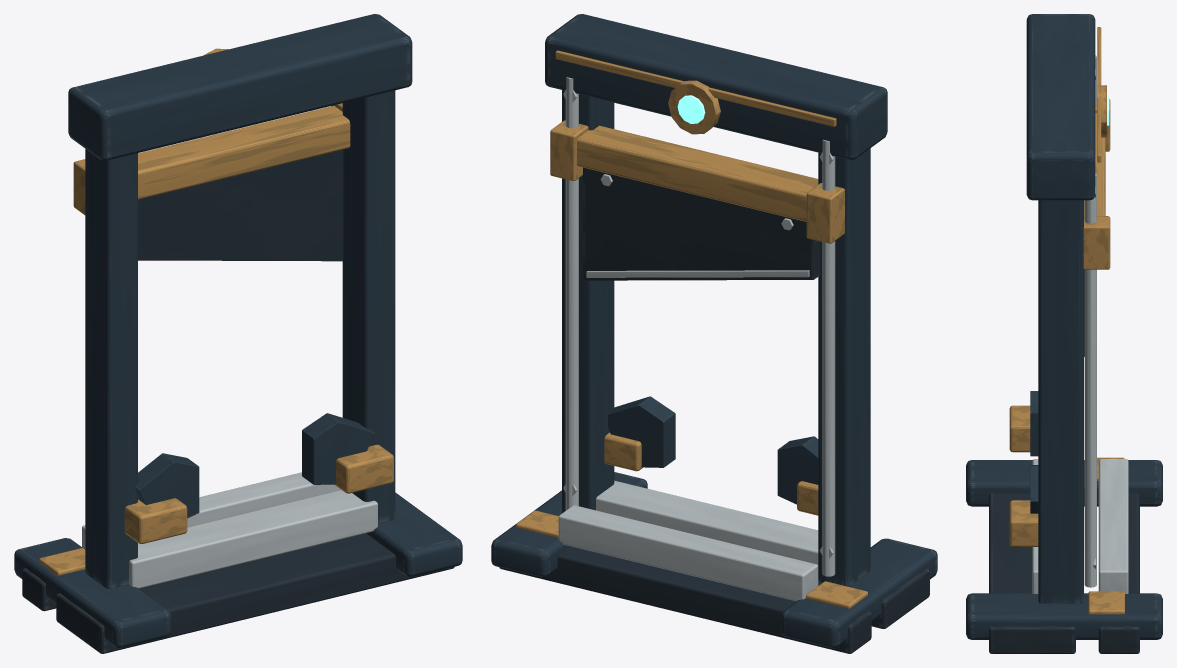
File: guillotine_lock.glb
The picture shows the model from 3 angles, left to right: view 1: azimuth 30°, elevation 25°; view 2: azimuth 150°, elevation 25°; view 3: azimuth 270°, elevation 25°; orthographic projection. The views are drawn at different scales.
Visible parts, largest first — view 1: v2_guillotine_lock__crown, v2_guillotine_lock__column_neg1, v2_guillotine_lock__column_1, v2_guillotine_lock__falling_blade, v2_guillotine_lock__ground_rear, v2_guillotine_lock__anvil_rear, v2_guillotine_lock__carriage, v2_guillotine_lock__foot_neg1, v2_guillotine_lock__foot_1, v2_guillotine_lock__anvil_front, v2_guillotine_lock__clamp_jaw_1, v2_guillotine_lock__clamp_jaw_neg1 (+5 smaller); view 2: v2_guillotine_lock__crown, v2_guillotine_lock__falling_blade, v2_guillotine_lock__column_neg1, v2_guillotine_lock__anvil_front, v2_guillotine_lock__carriage, v2_guillotine_lock__column_1, v2_guillotine_lock__ground_front, v2_guillotine_lock__anvil_rear, v2_guillotine_lock__foot_neg1, v2_guillotine_lock__guide_neg1, v2_guillotine_lock__guide_1, v2_guillotine_lock__foot_1 (+12 smaller); view 3: v2_guillotine_lock__column_1, v2_guillotine_lock__crown, v2_guillotine_lock__foot_1, v2_guillotine_lock__ground_rear, v2_guillotine_lock__guide_1, v2_guillotine_lock__anvil_front, v2_guillotine_lock__foot_neg1, v2_guillotine_lock__ground_front, v2_guillotine_lock__runner_1, v2_guillotine_lock__clamp_slide_1, v2_guillotine_lock__clamp_slide_neg1, v2_guillotine_lock__foot_trim_1 (+6 smaller).
Part boxes in pixels (x1,y1,x2,y2): v2_guillotine_lock__crown: (68,14,412,160); v2_guillotine_lock__column_neg1: (85,149,137,588); v2_guillotine_lock__column_1: (342,90,395,523); v2_guillotine_lock__falling_blade: (138,149,343,261); v2_guillotine_lock__ground_rear: (56,533,454,653); v2_guillotine_lock__anvil_rear: (129,490,377,588); v2_guillotine_lock__carriage: (138,106,350,199); v2_guillotine_lock__foot_neg1: (14,538,171,647); v2_guillotine_lock__foot_1: (366,492,462,576); v2_guillotine_lock__anvil_front: (82,472,340,549); v2_guillotine_lock__clamp_jaw_1: (302,413,374,484); v2_guillotine_lock__clamp_jaw_neg1: (134,453,199,518); v2_guillotine_lock__crown: (545,14,887,159); v2_guillotine_lock__falling_blade: (583,167,819,280); v2_guillotine_lock__column_neg1: (818,148,870,586); v2_guillotine_lock__anvil_front: (558,505,818,601); v2_guillotine_lock__carriage: (577,125,818,221); v2_guillotine_lock__column_1: (562,90,614,512); v2_guillotine_lock__ground_front: (499,546,871,653); v2_guillotine_lock__anvil_rear: (596,480,818,565); v2_guillotine_lock__foot_neg1: (781,538,937,648); v2_guillotine_lock__guide_neg1: (822,139,835,576); v2_guillotine_lock__guide_1: (565,77,578,510); v2_guillotine_lock__foot_1: (491,472,647,577); v2_guillotine_lock__column_1: (1038,200,1083,603); v2_guillotine_lock__crown: (1026,14,1095,200); v2_guillotine_lock__foot_1: (966,593,1162,639); v2_guillotine_lock__ground_rear: (989,493,1075,653); v2_guillotine_lock__guide_1: (1084,173,1096,587); v2_guillotine_lock__anvil_front: (1098,459,1128,593); v2_guillotine_lock__foot_neg1: (966,460,1162,506); v2_guillotine_lock__ground_front: (1098,493,1139,653); v2_guillotine_lock__runner_1: (1083,216,1110,269); v2_guillotine_lock__clamp_slide_1: (1009,500,1038,546); v2_guillotine_lock__clamp_slide_neg1: (1009,405,1030,452); v2_guillotine_lock__foot_trim_1: (1088,591,1124,614).
Size of the model in its own units: 1.68 by 2.37 by 0.86.
Materials: 2 (2 with a texture image).
